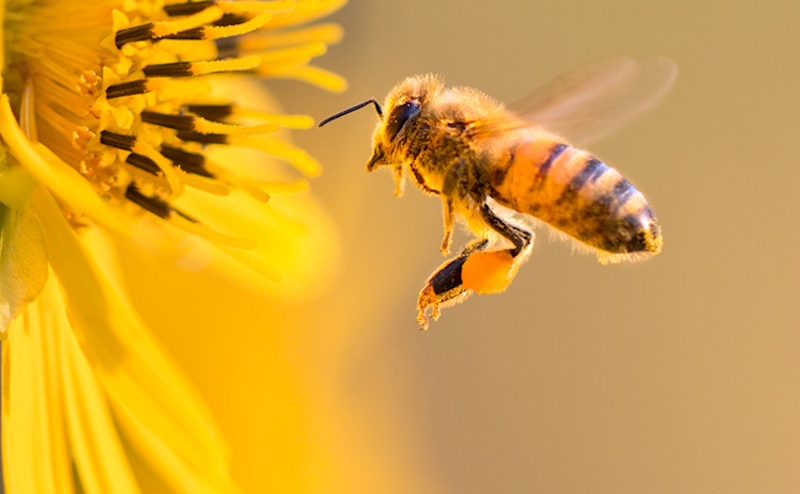abeja: (307, 33, 706, 339)
